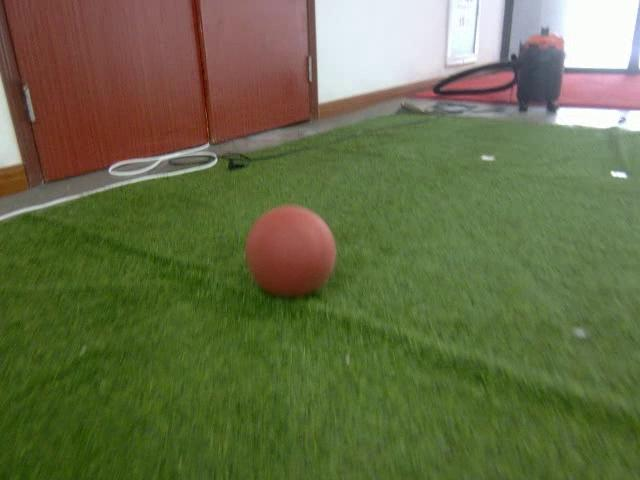red_ball: (246, 205, 336, 299)
